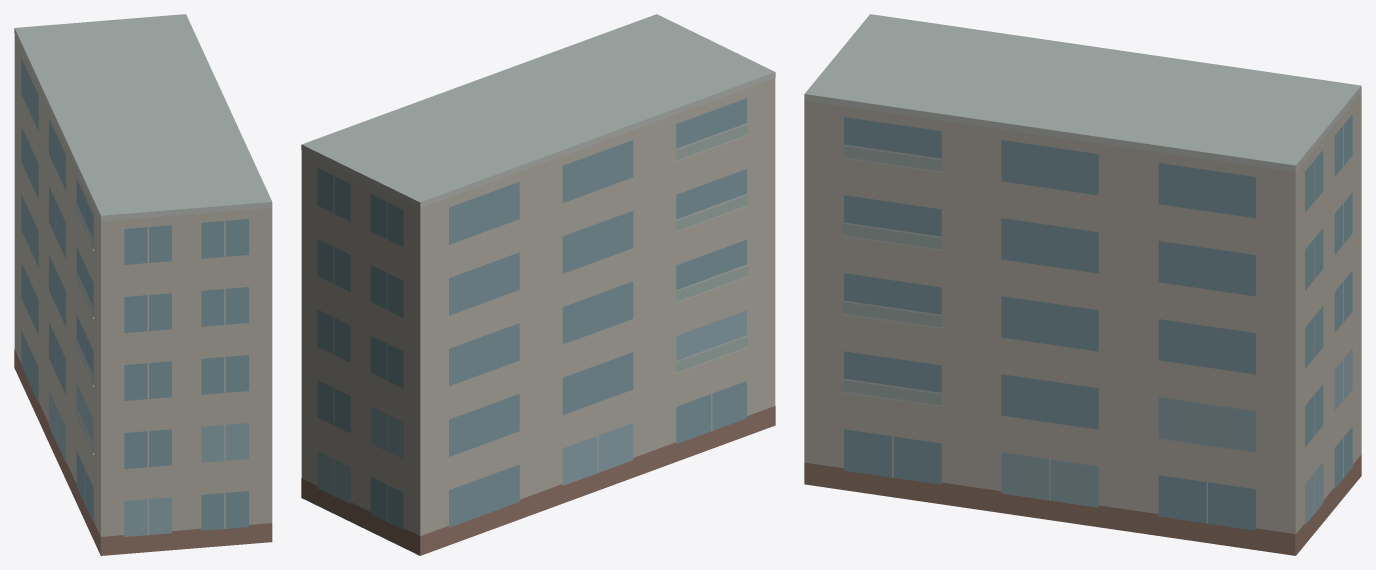
Rendered from survey-upis-32890073.glb.
3 renders of one model, left to right at view 1: azimuth 30°, elevation 25°; view 2: azimuth 150°, elevation 25°; view 3: azimuth 270°, elevation 25°, orthographic. The views are drawn at different scales.
Visible parts, largest first — view 1: survey-upis-32890073.tmp; view 2: survey-upis-32890073.tmp; view 3: survey-upis-32890073.tmp.
Part boxes in pixels (x1,y1,x2,y2): survey-upis-32890073.tmp: [14, 14, 272, 555]; survey-upis-32890073.tmp: [301, 14, 775, 555]; survey-upis-32890073.tmp: [804, 14, 1361, 555].
Bounding box in the file's own units: 12.08 × 14.5 × 18.77.
